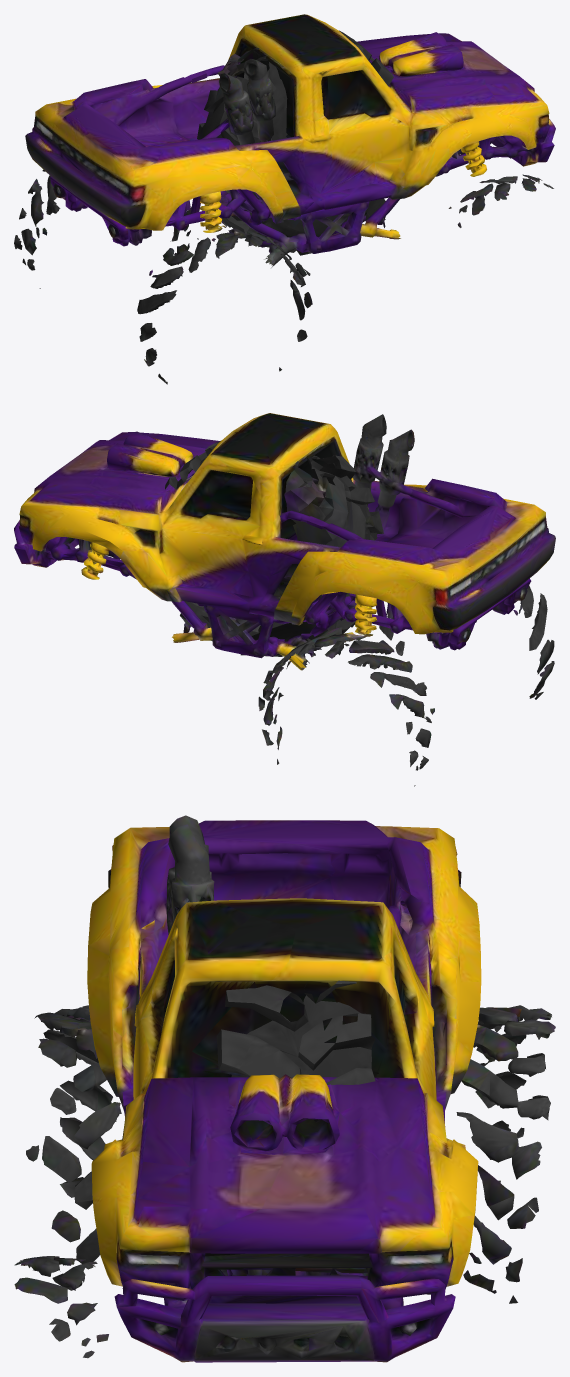
File: trovao-B-Gk7ZOQ.glb
3 views of the same model, one above another, from view 1: azimuth 30°, elevation 25°; view 2: azimuth 150°, elevation 25°; view 3: azimuth 270°, elevation 25° (orthographic). The views are drawn at different scales.
Visible parts, largest first — view 1: carroceria, roda; view 2: carroceria, roda; view 3: carroceria, roda.
Part boxes in pixels (box(x1,y1,x2,y2)): carroceria: box(14, 14, 555, 384); roda: box(197, 30, 393, 255); carroceria: box(14, 413, 555, 786); roda: box(165, 440, 383, 656); carroceria: box(14, 815, 555, 1362); roda: box(216, 980, 375, 1084).
Size of the model in its own units: 3.85 by 2.34 by 2.32.
Materials: 2 (2 with a texture image).
